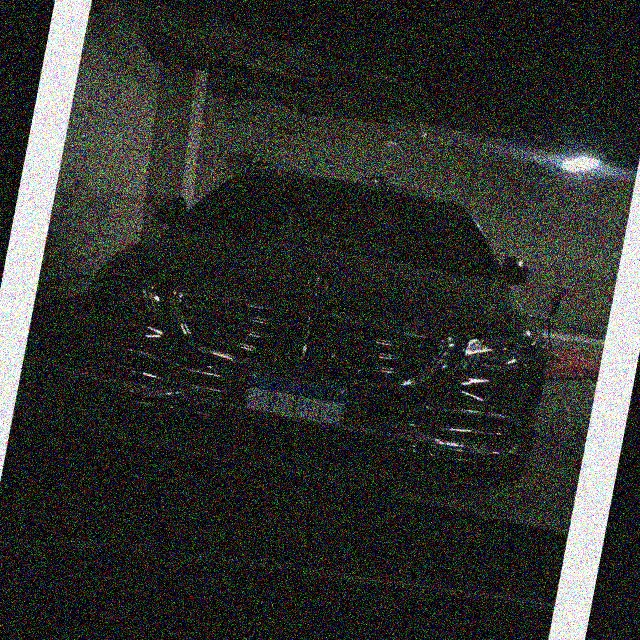License Plate: (240, 367, 352, 430)
